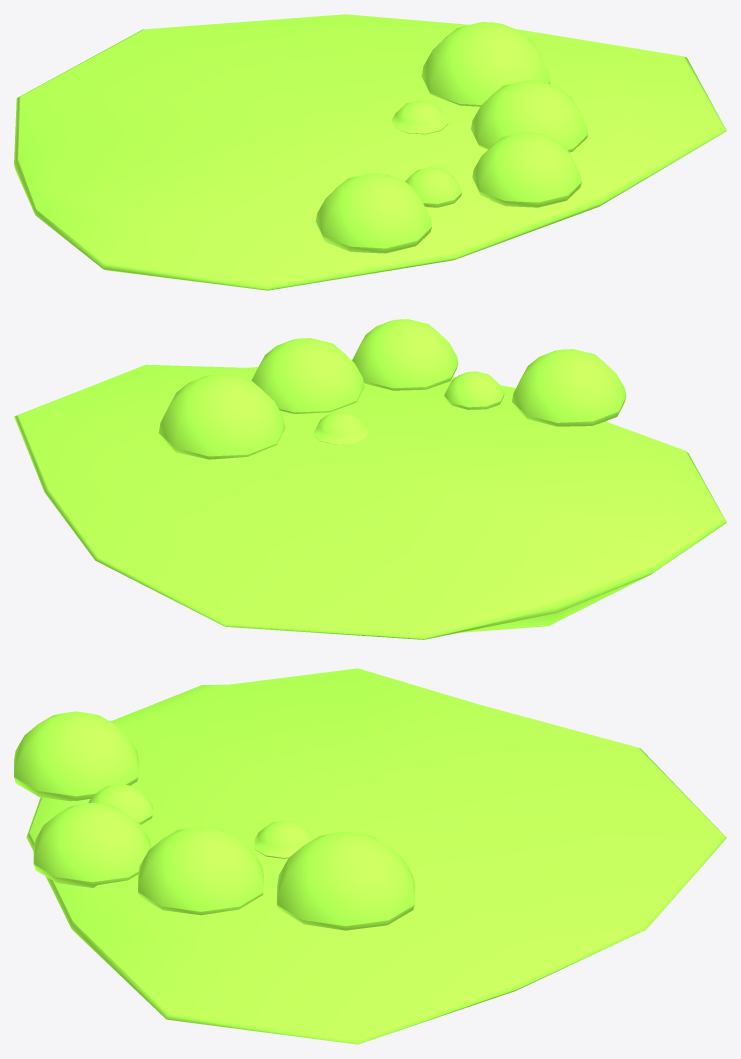
The model's file is schmutz_schleim_2.fbx.
3 renders of one model, top to bottom at view 1: azimuth 30°, elevation 25°; view 2: azimuth 150°, elevation 25°; view 3: azimuth 270°, elevation 25°, orthographic. The views are drawn at different scales.
Parts seen in each view (by area): view 1: schmutz_schleim_2_Koerper; view 2: schmutz_schleim_2_Koerper; view 3: schmutz_schleim_2_Koerper.
Part boxes in pixels (bbox=[...]): schmutz_schleim_2_Koerper: bbox=[14, 14, 726, 290]; schmutz_schleim_2_Koerper: bbox=[14, 319, 726, 639]; schmutz_schleim_2_Koerper: bbox=[14, 668, 726, 1044].
Size of the model in its own units: 1.12 by 0.1959 by 0.9454.
